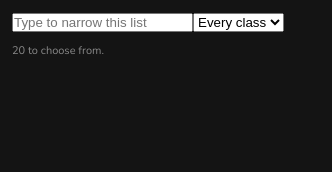
Test: the prompt entry is never filtered away
Type "zzz" into the search field with test id "student-search" at (102, 22), box [12,13,193,32]
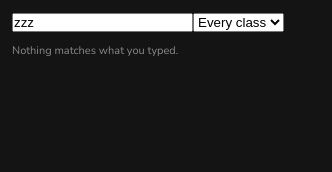
Result: the text with test id "student-count" shows "Nothing matches" at [12,43,178,58]
